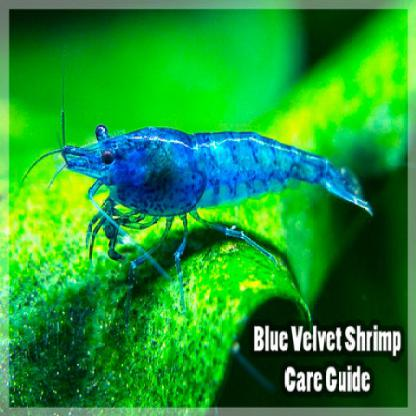shrimp: (55, 125, 371, 266)
